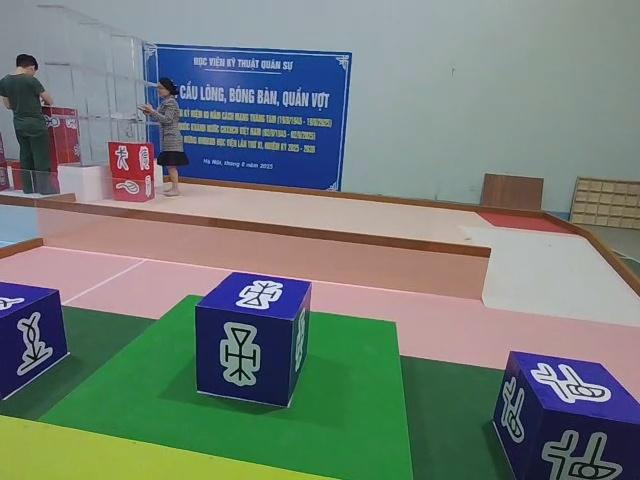R2 Real Blue: (492, 355, 638, 480), (197, 271, 314, 408), (0, 283, 69, 403)
